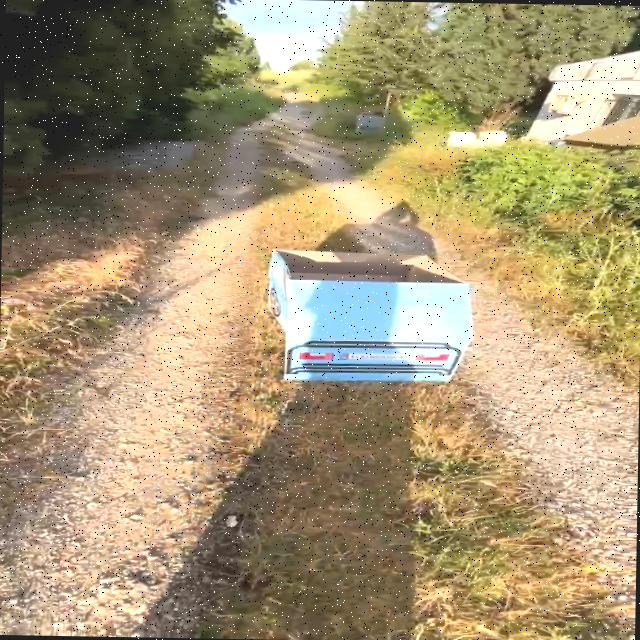blue_car: (200, 230, 480, 408)
